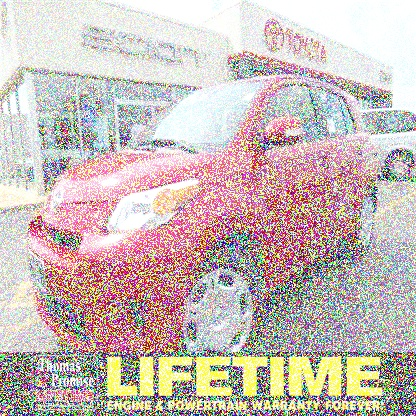Vehicle: (27, 73, 379, 359)
